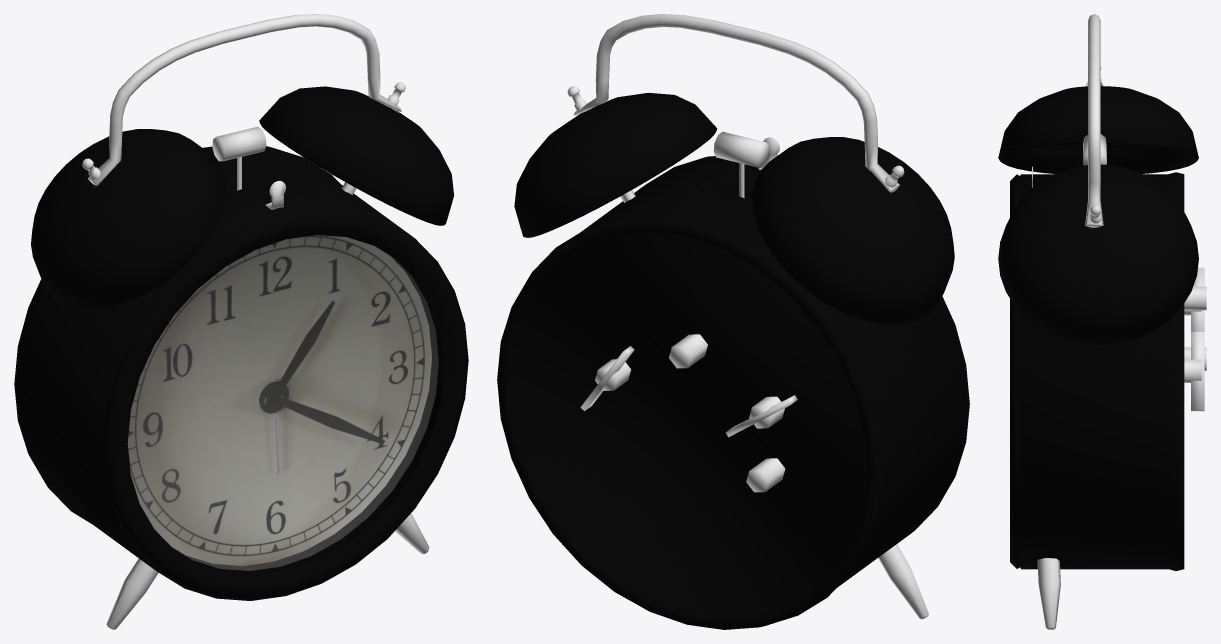
Rendered from torso.glb.
3 renders of one model, left to right at view 1: azimuth 30°, elevation 25°; view 2: azimuth 150°, elevation 25°; view 3: azimuth 270°, elevation 25°, orthographic. The views are drawn at different scales.
Visible parts, largest first — view 1: Clock alarm dekad; view 2: Clock alarm dekad; view 3: Clock alarm dekad.
Part boxes in pixels (x1,y1,x2,y2): Clock alarm dekad: (14,14,468,629); Clock alarm dekad: (497,14,969,629); Clock alarm dekad: (998,14,1206,629).
Bounding box in the file's own units: 0.6105 × 0.8169 × 0.3001.
4 materials, 1 textured.
